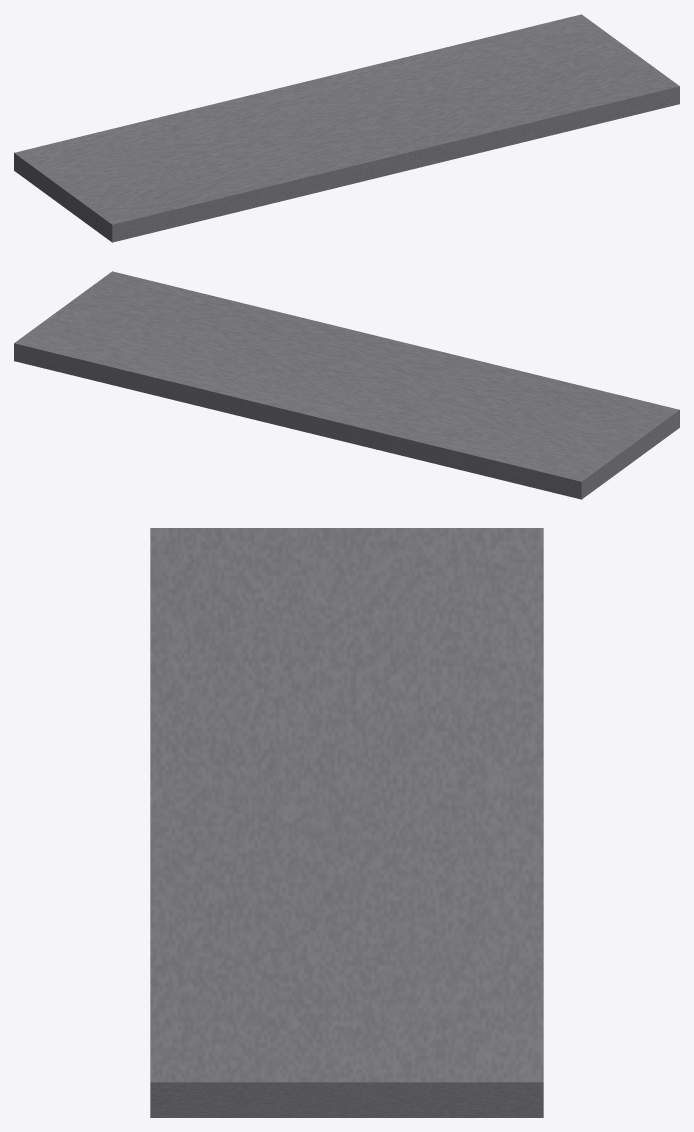
The picture shows the model from 3 angles, top to bottom: view 1: azimuth 30°, elevation 25°; view 2: azimuth 150°, elevation 25°; view 3: azimuth 270°, elevation 25°; orthographic projection. The views are drawn at different scales.
Parts seen in each view (by area): view 1: win_double_1u_lod0_run001; view 2: win_double_1u_lod0_run001; view 3: win_double_1u_lod0_run001.
Boxes of the visible parts, <box> form: win_double_1u_lod0_run001: <box>14,14,679,242</box>; win_double_1u_lod0_run001: <box>14,271,679,499</box>; win_double_1u_lod0_run001: <box>150,528,543,1117</box>.
Bounding box in the file's own units: 4 × 0.12 × 1.2.
1 material, 1 textured.
